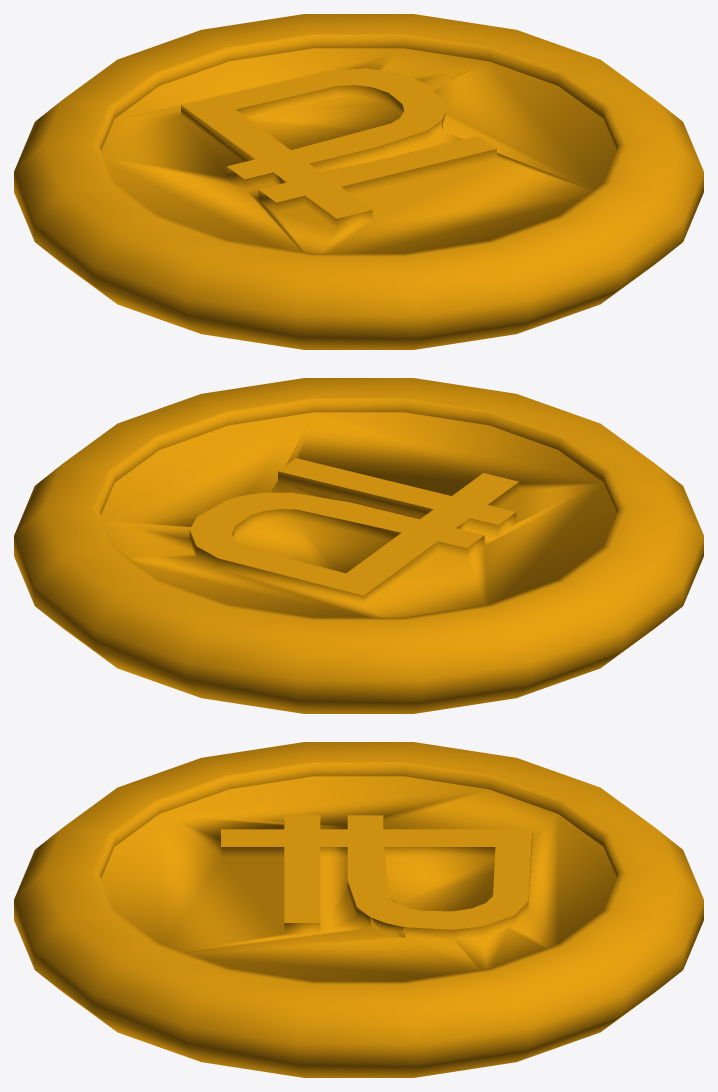
Rendered from Coin_rouble.glb.
3 views of the same model, one above another, from view 1: azimuth 30°, elevation 25°; view 2: azimuth 150°, elevation 25°; view 3: azimuth 270°, elevation 25° (orthographic).
Parts seen in each view (by area): view 1: Coin_New; view 2: Coin_New; view 3: Coin_New.
Boxes of the visible parts, <box> form: Coin_New: <box>14,14,703,349</box>; Coin_New: <box>14,378,703,713</box>; Coin_New: <box>14,742,703,1077</box>.
Size of the model in its own units: 1.97 by 0.2383 by 2.
